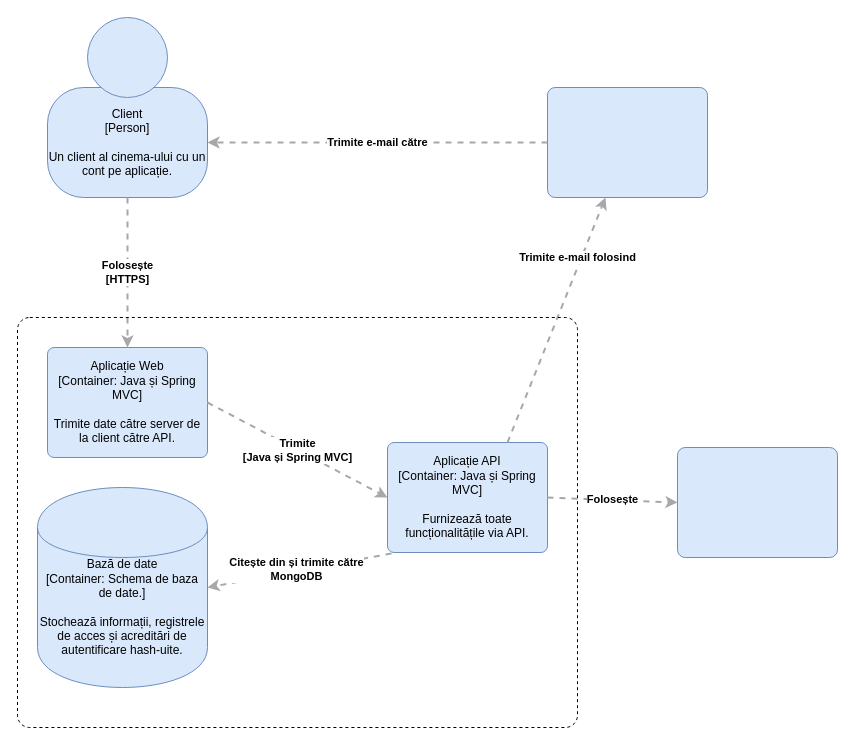
Image size: 855x745. Some labels were removed from this diagram. The shapes that lost their labels are listed below. From the top down, each one's box as (x1, y1, x2, y2) in pixels, then its label:
(546, 86, 708, 198): Sistem de email [Software System] Sistem intern de gestionare a emailurilor.
(676, 446, 838, 558): Sistemul bancar [Software System] Sistem care se ocupă cu gestionarea plăților.
